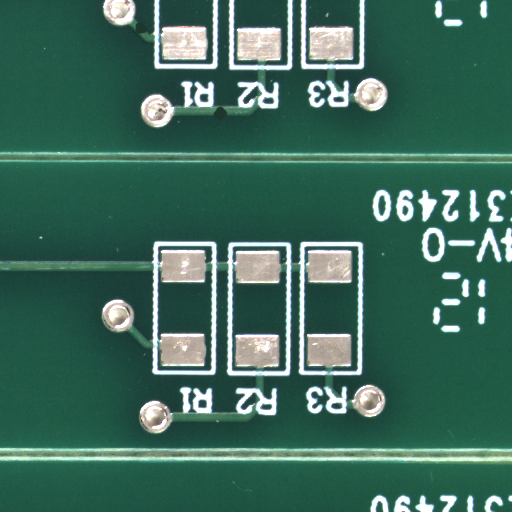Mouse_bite: (220, 112, 235, 122), (142, 28, 153, 39)
